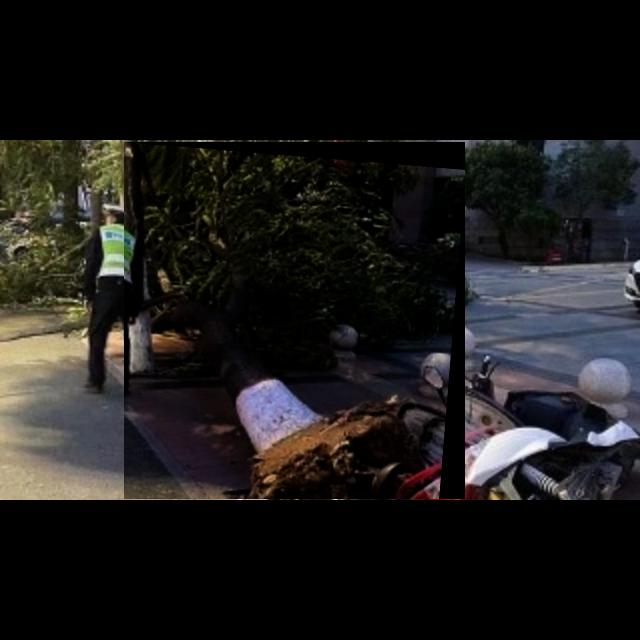Fallen Tree: (124, 142, 466, 500)
